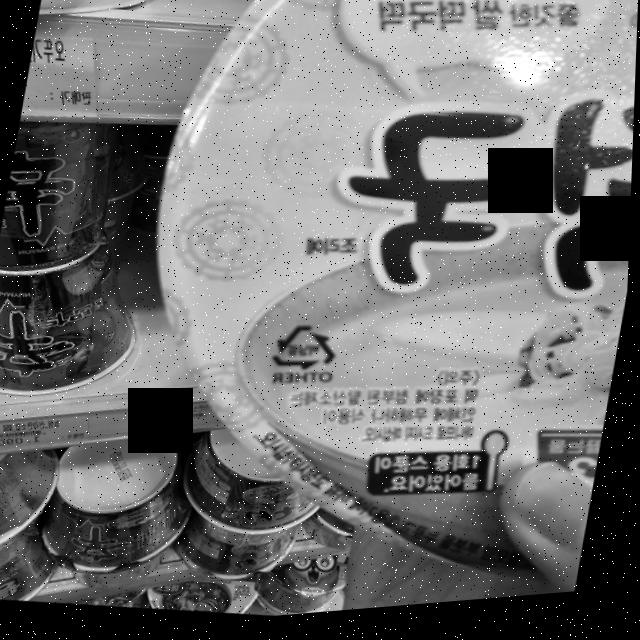Vinyl: (266, 321, 348, 384)
